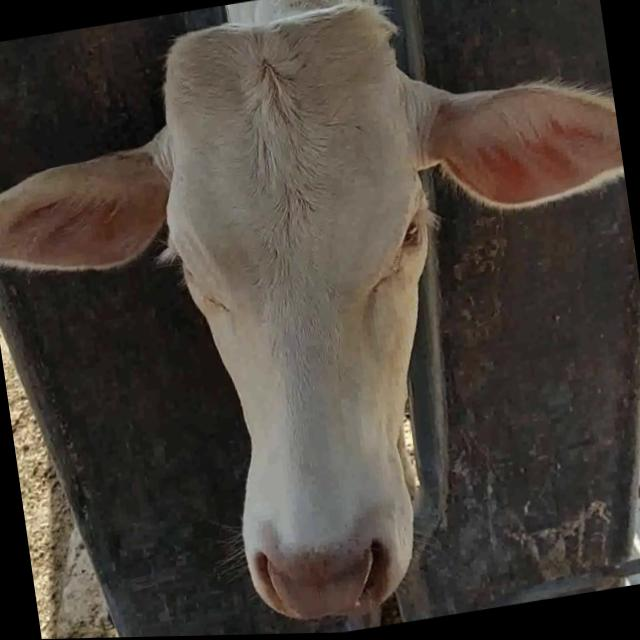cowFace: (146, 0, 487, 636)
